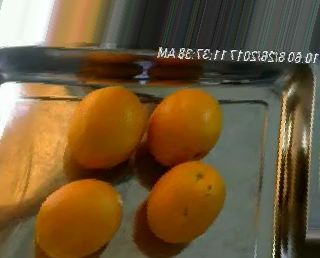Orange: (34, 178, 124, 258), (67, 85, 146, 168), (146, 161, 225, 242), (147, 87, 224, 165)
